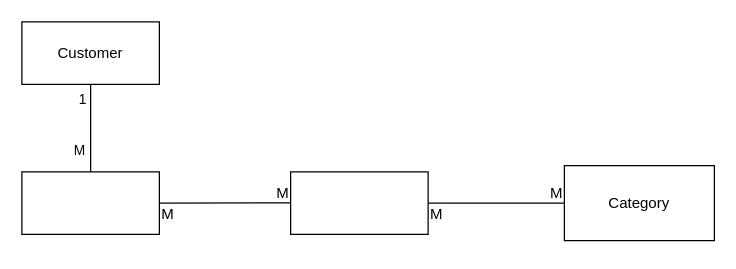
The diagram is 736 pixels wide and 269 high, and some of its shapes have lost their labels. The centre of each missing label's shape, as x and y in pixels:
"MenuItem" belongs at point 358,202.
"Order" belongs at point 90,202.
